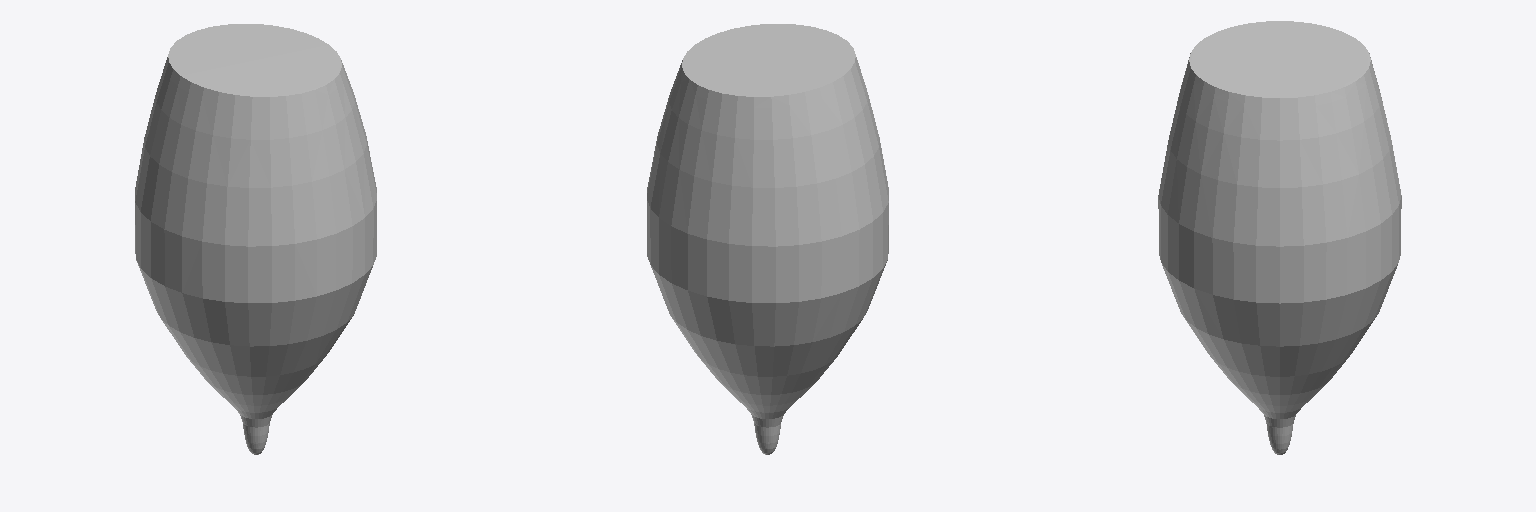
The model's file is Condom_cum.obj.
The picture shows the model from 3 angles: view 1: azimuth 30°, elevation 25°; view 2: azimuth 150°, elevation 25°; view 3: azimuth 270°, elevation 25°; orthographic projection.
Visible parts, largest first — view 1: Torus.002_Torus.005; view 2: Torus.002_Torus.005; view 3: Torus.002_Torus.005.
Part boxes in pixels (x1,y1,x2,y2): Torus.002_Torus.005: (135, 24, 376, 454); Torus.002_Torus.005: (647, 24, 888, 454); Torus.002_Torus.005: (1158, 21, 1401, 454).
Size of the model in its own units: 9.27 by 16.65 by 9.25.